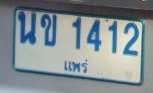txt02: (39, 12, 57, 48)
txt20: (17, 10, 38, 46)
